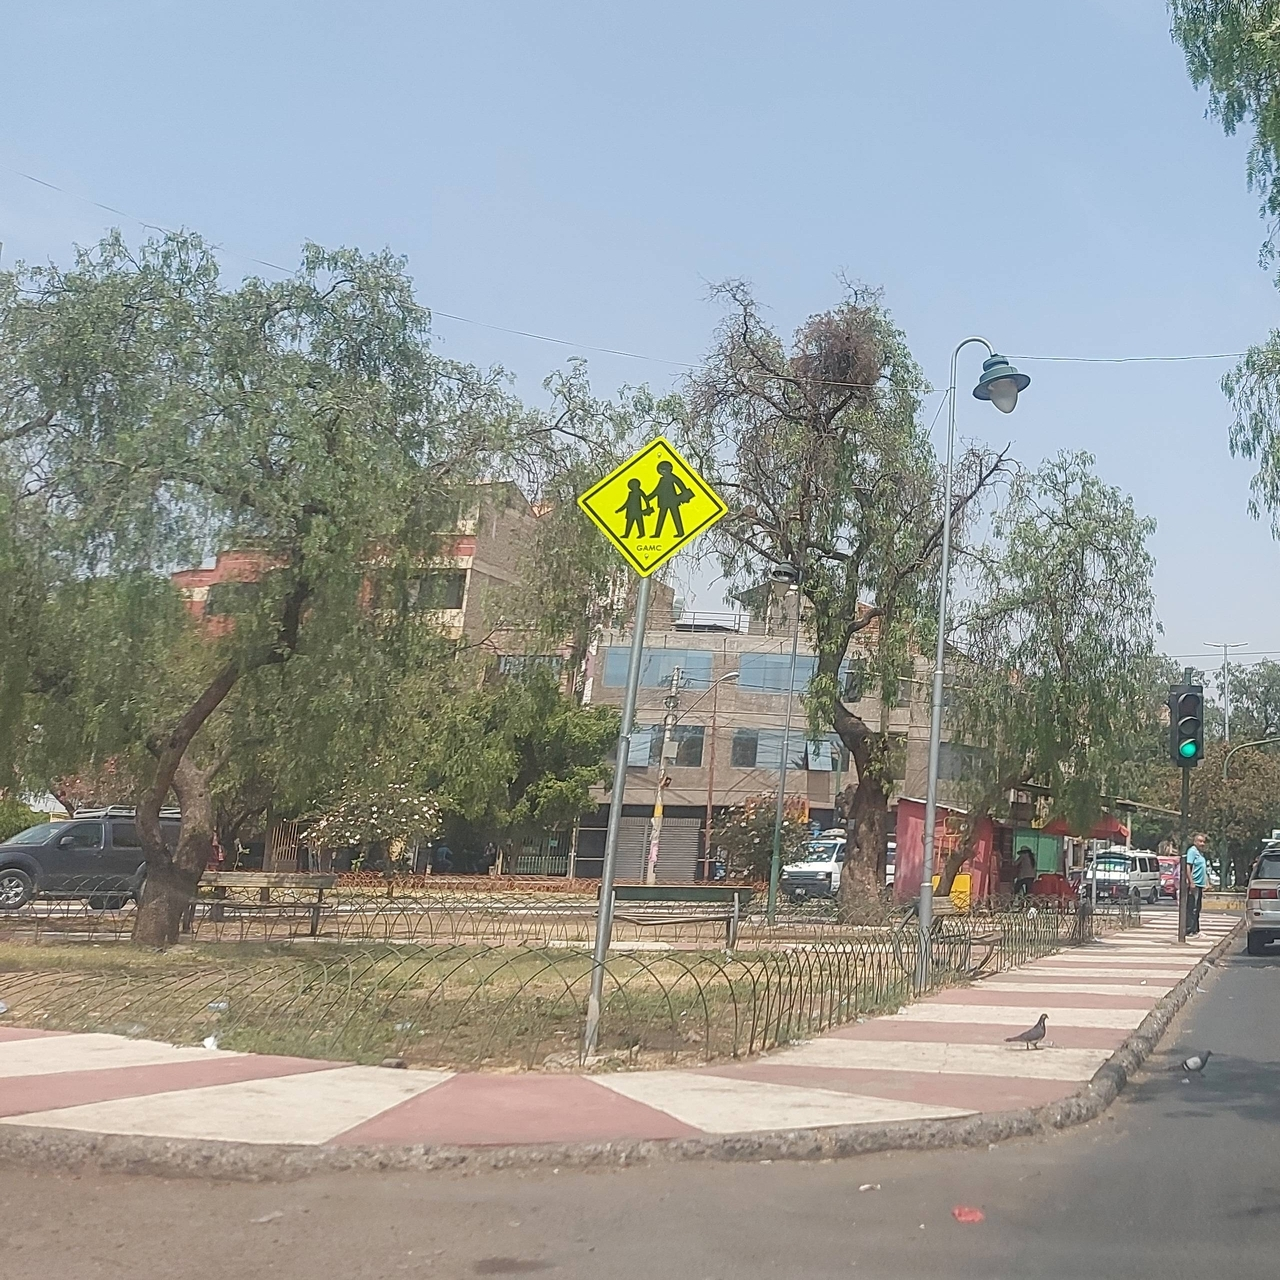zona-escolar: (574, 434, 735, 573)
